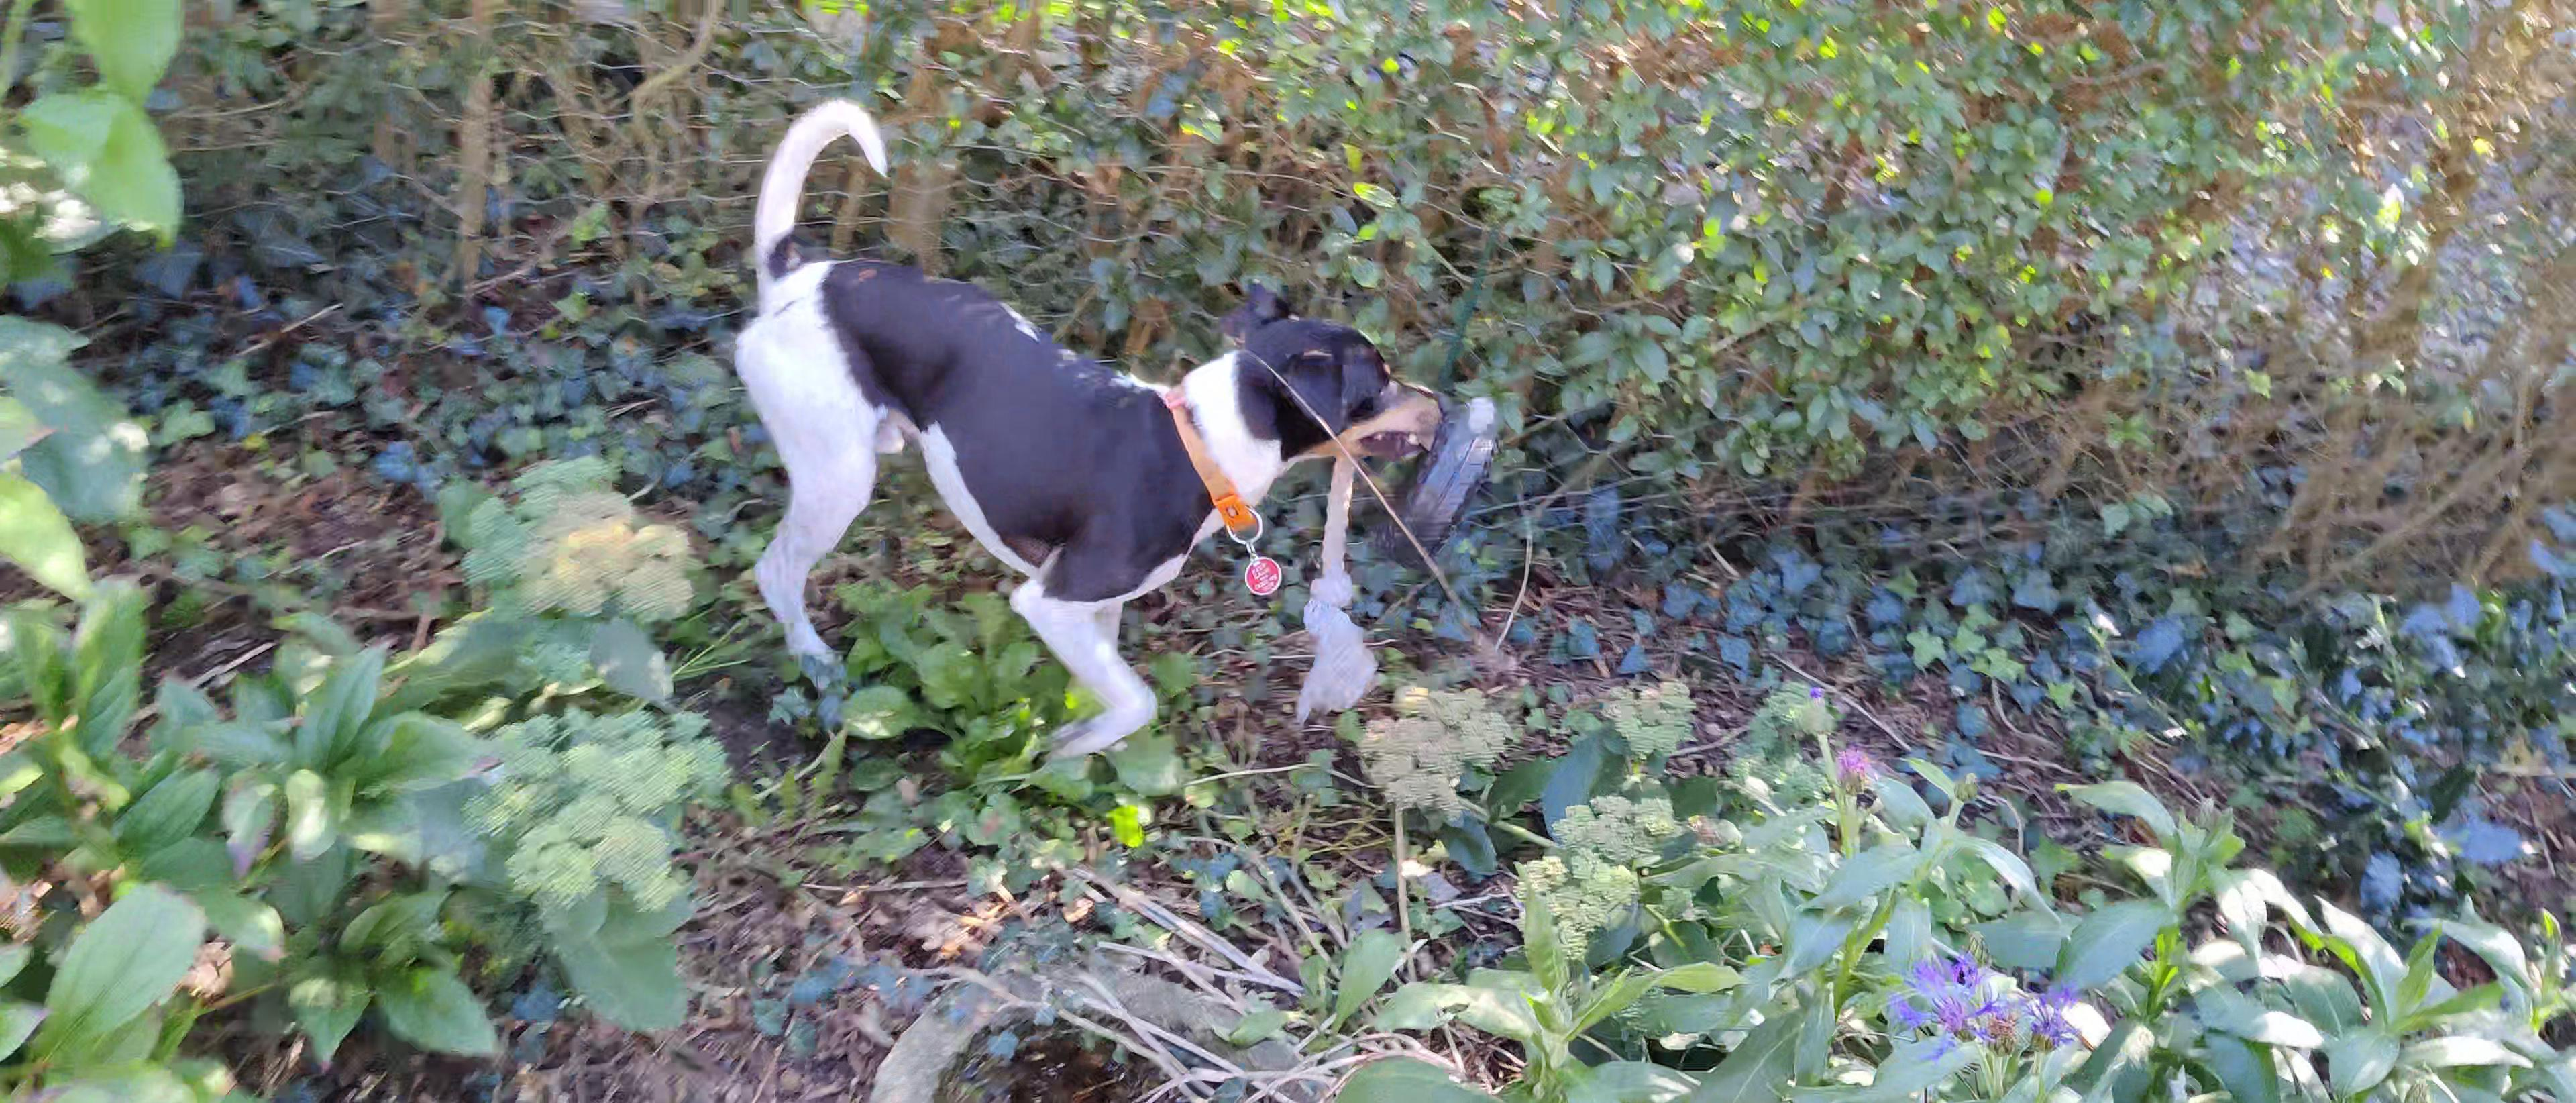Dog: (726, 92, 1454, 768)
